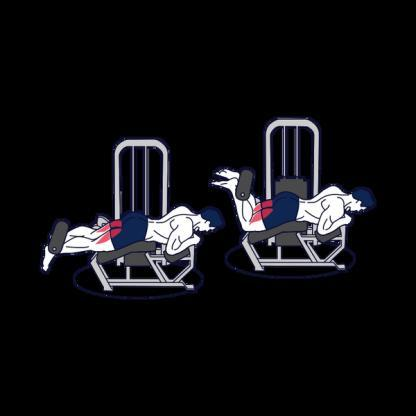reg curl machine: (41, 135, 223, 295), (209, 118, 375, 273)
